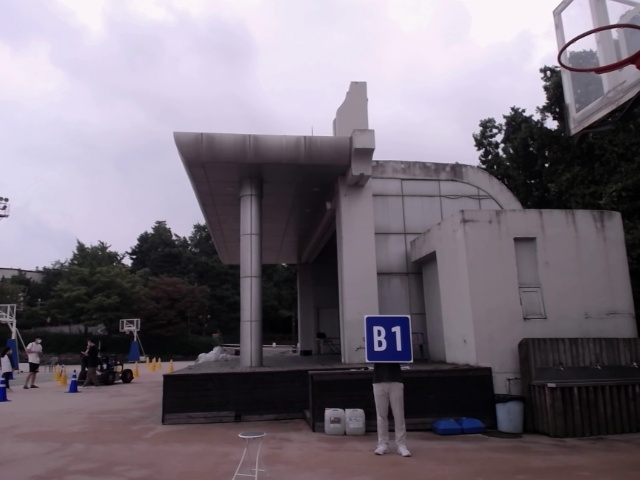delivery_b1: (364, 315, 413, 362)
